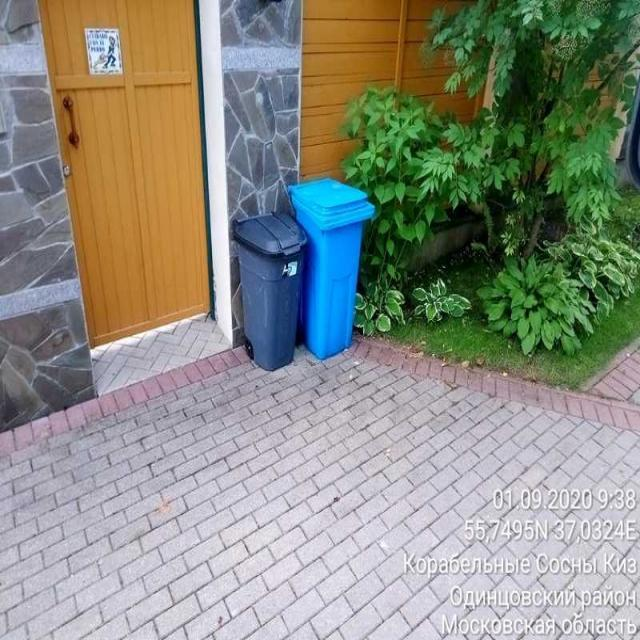Dumpster: (298, 181, 373, 355), (236, 212, 305, 372)
